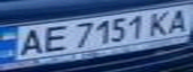1: (124, 12, 151, 39), (90, 17, 115, 46)
5: (109, 16, 130, 43)
7: (69, 20, 97, 50)
A: (12, 26, 48, 57), (163, 6, 193, 35)
E: (36, 22, 72, 55)
K: (145, 8, 175, 37)
